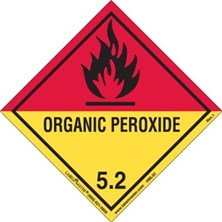OrganicPeroxide: (1, 1, 222, 220)
